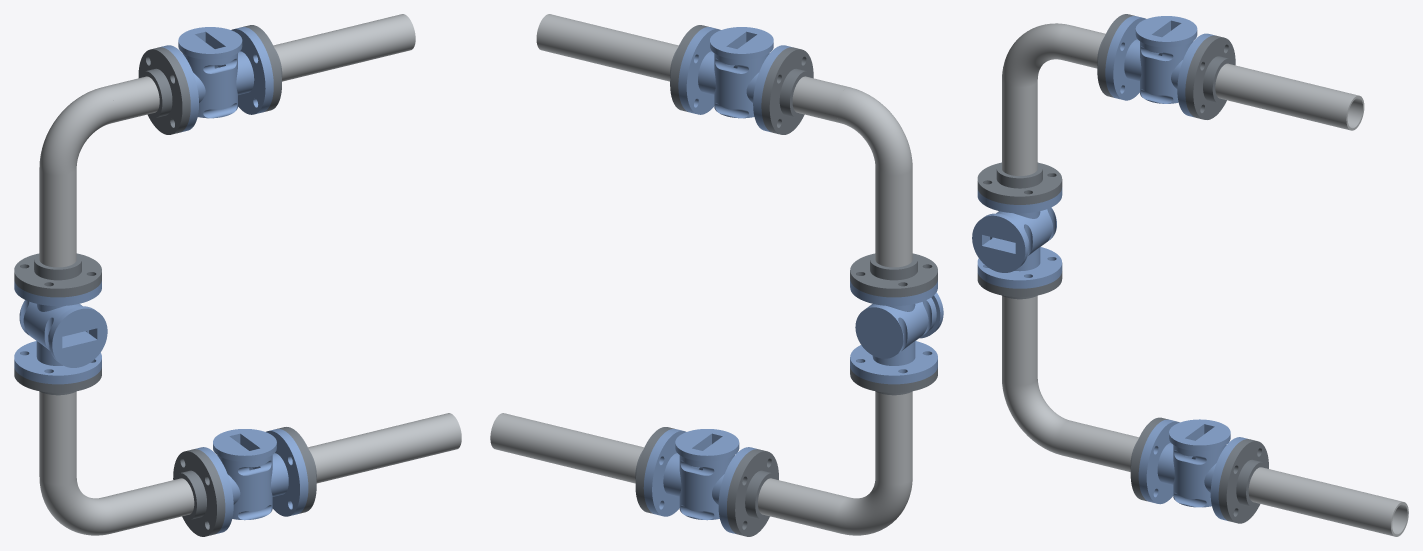
The model's file is step_23.glb.
The picture shows the model from 3 angles, left to right: view 1: azimuth 30°, elevation 25°; view 2: azimuth 150°, elevation 25°; view 3: azimuth 330°, elevation 25°; orthographic projection. The views are drawn at different scales.
Parts seen in each view (by area): view 1: part__body top valve, part__body bottom valve, part__body riser valve, part__bottom pipe, outlet, 360 long, part__top pipe, outlet, 335 long, part__bend 2 (top), part__riser pipe, upper, 230 long, part__riser pipe, lower, 70 long, part__bottom pipe, inlet, 210 long, part__flange top, inlet, part__flange bottom, inlet, part__flange riser, outlet (+5 smaller); view 2: part__body top valve, part__body bottom valve, part__body riser valve, part__bottom pipe, outlet, 360 long, part__top pipe, outlet, 335 long, part__bend 2 (top), part__riser pipe, upper, 230 long, part__riser pipe, lower, 70 long, part__bottom pipe, inlet, 210 long, part__flange top, inlet, part__flange bottom, inlet, part__flange riser, outlet (+5 smaller); view 3: part__body top valve, part__body bottom valve, part__body riser valve, part__bottom pipe, outlet, 360 long, part__top pipe, outlet, 335 long, part__riser pipe, upper, 230 long, part__riser pipe, lower, 70 long, part__flange top, outlet, part__flange bottom, outlet, part__bottom pipe, inlet, 210 long, part__flange riser, outlet, part__bend 2 (top) (+5 smaller).
Boxes of the visible parts, box(x1,y1,x2,y2) form: part__body top valve: box(160, 27, 273, 132); part__body bottom valve: box(195, 429, 308, 534); part__body riser valve: box(14, 281, 107, 384); part__bottom pipe, outlet, 360 long: box(308, 413, 461, 483); part__top pipe, outlet, 335 long: box(273, 14, 415, 81); part__bend 2 (top): box(39, 87, 115, 175); part__riser pipe, upper, 230 long: box(39, 168, 76, 267); part__riser pipe, lower, 70 long: box(39, 391, 76, 484); part__bottom pipe, inlet, 210 long: box(103, 478, 194, 533); part__flange top, inlet: box(138, 47, 190, 134); part__flange bottom, inlet: box(173, 449, 225, 536); part__flange riser, outlet: box(14, 253, 101, 297); part__body top valve: box(678, 27, 791, 132); part__body bottom valve: box(643, 429, 756, 534); part__body riser valve: box(850, 279, 943, 384); part__bottom pipe, outlet, 360 long: box(490, 413, 644, 483); part__top pipe, outlet, 335 long: box(536, 14, 678, 81); part__bend 2 (top): box(836, 87, 912, 175); part__riser pipe, upper, 230 long: box(875, 168, 912, 267); part__riser pipe, lower, 70 long: box(875, 391, 912, 484); part__bottom pipe, inlet, 210 long: box(758, 478, 848, 533); part__flange top, inlet: box(761, 47, 813, 134); part__flange bottom, inlet: box(727, 449, 778, 536); part__flange riser, outlet: box(850, 253, 937, 297); part__body top valve: box(1105, 16, 1215, 117); part__body bottom valve: box(1138, 419, 1247, 520); part__body riser valve: box(972, 187, 1062, 288); part__bottom pipe, outlet, 360 long: box(1248, 467, 1408, 536); part__top pipe, outlet, 335 long: box(1215, 63, 1364, 130); part__riser pipe, upper, 230 long: box(1002, 81, 1037, 175); part__riser pipe, lower, 70 long: box(1002, 296, 1037, 385); part__flange top, outlet: box(1185, 35, 1235, 119); part__flange bottom, outlet: box(1218, 439, 1268, 523); part__bottom pipe, inlet, 210 long: box(1057, 420, 1138, 471); part__flange riser, outlet: box(977, 162, 1062, 204); part__bend 2 (top): box(1002, 23, 1069, 87).
Bounding box in the file's own units: 937 × 1015 × 165.
